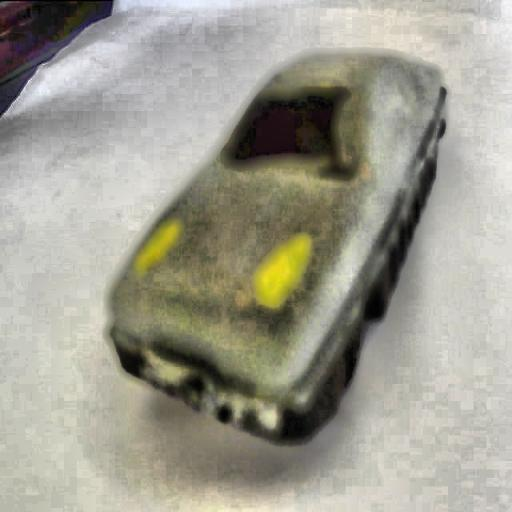normal_car: (99, 49, 449, 449)
